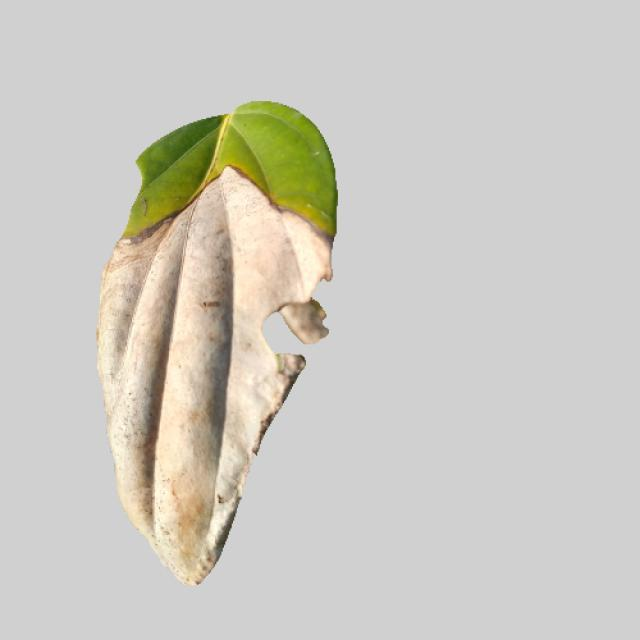leaf-blight: (88, 114, 343, 585)
